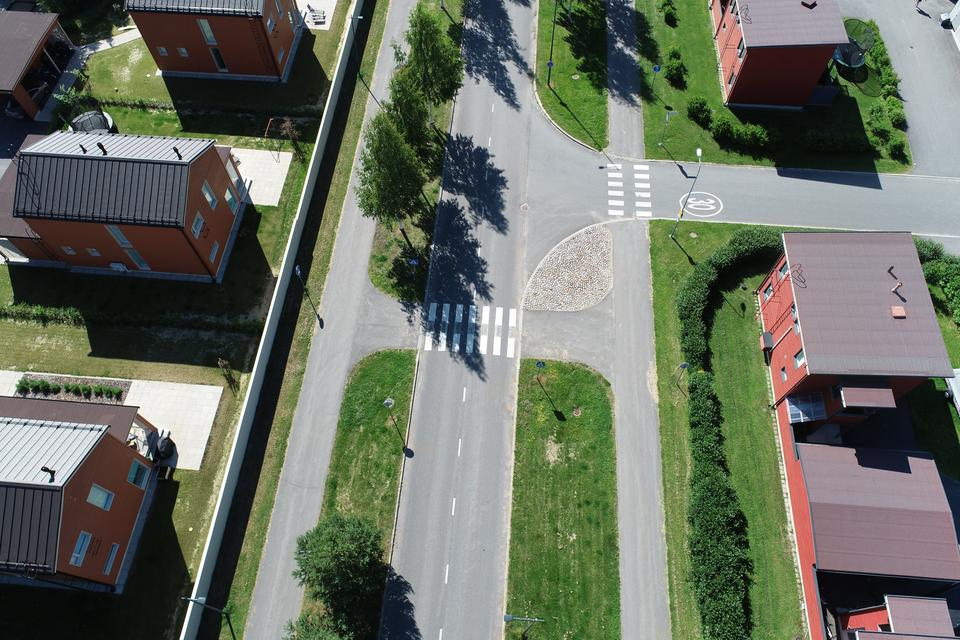intersection: (279, 272, 679, 396), (419, 79, 701, 246)
